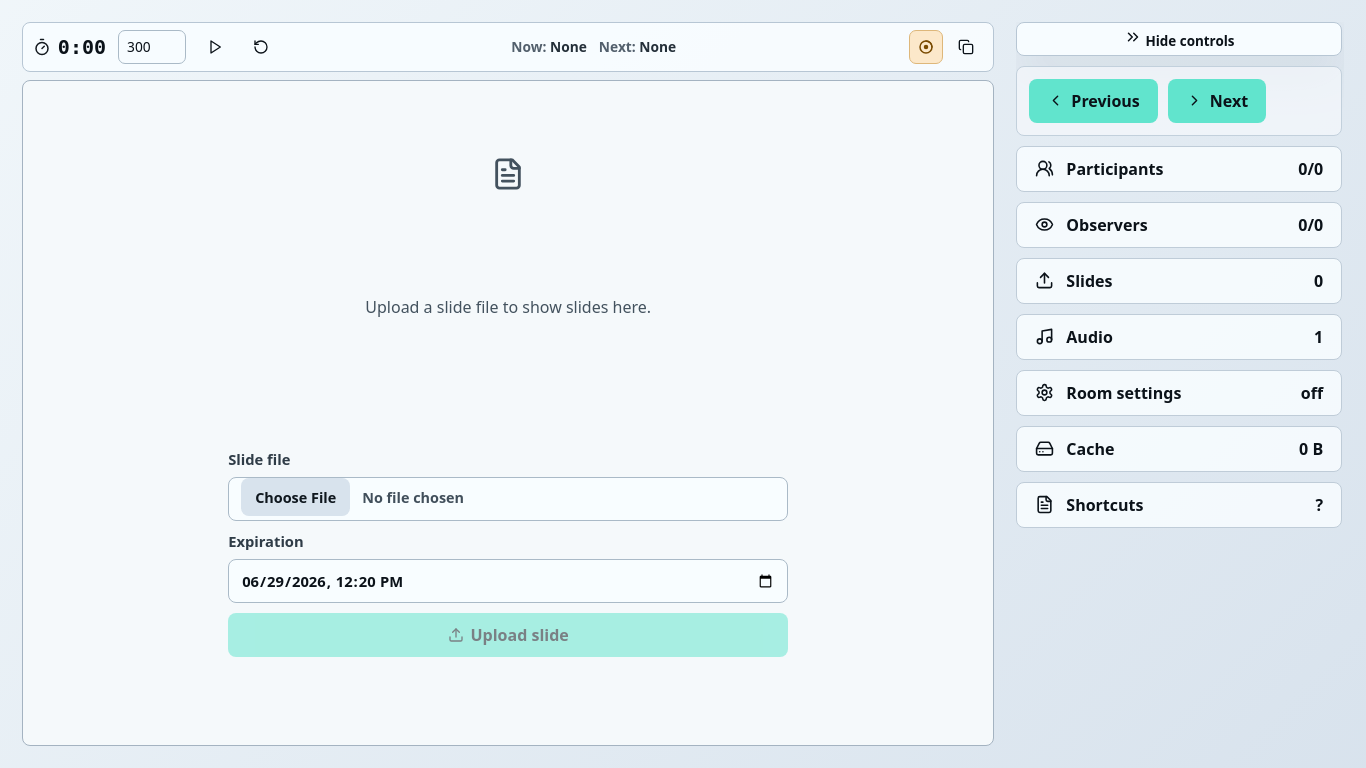
Test: App landing polish › skips cached audio already present in the current room
Click the button "Cache 0 B": [1090, 449] box [1017,427,1341,471]
(page scrolled)
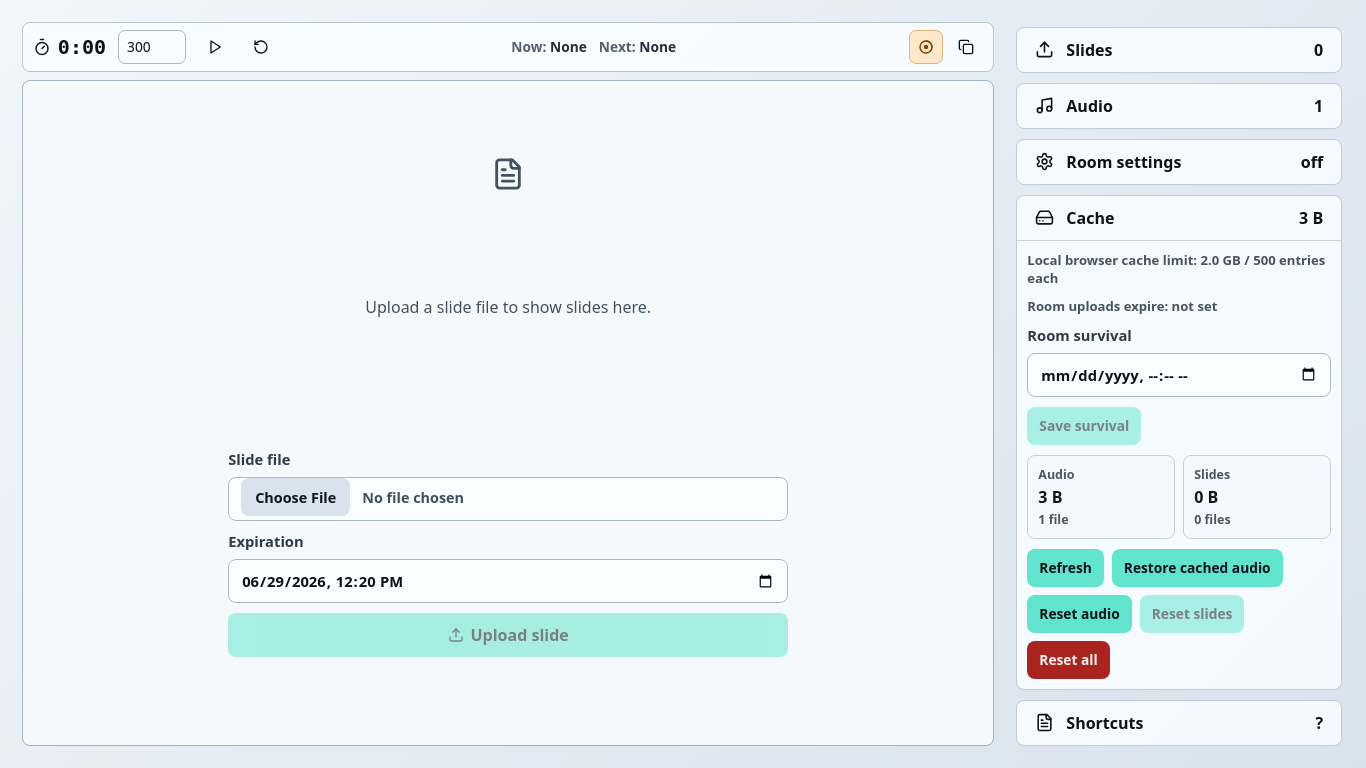
Click the button "Restore cached audio": [1197, 568] box [1112,549,1283,587]
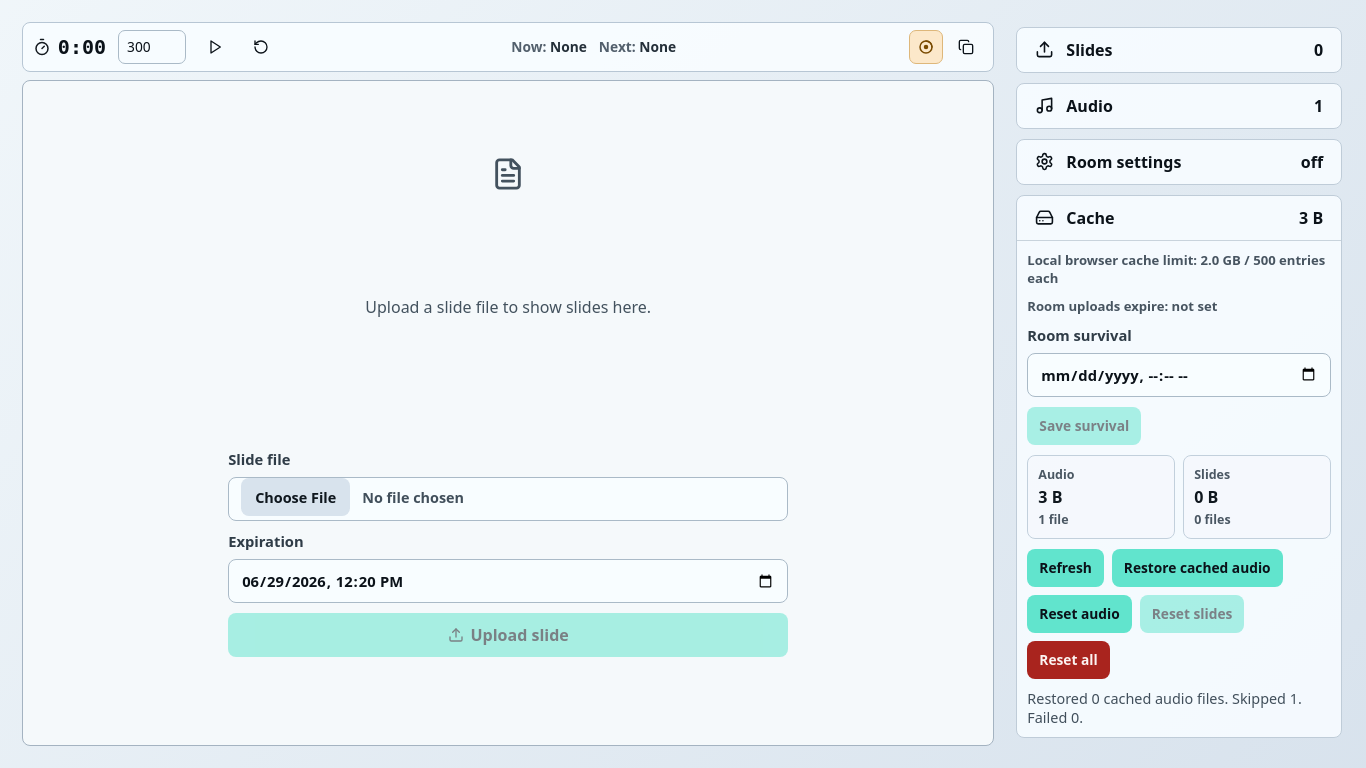
Now the text "Restored 0 cached audio files. Skipped 1. Failed 0." is shown, box [1027,689,1331,727]
